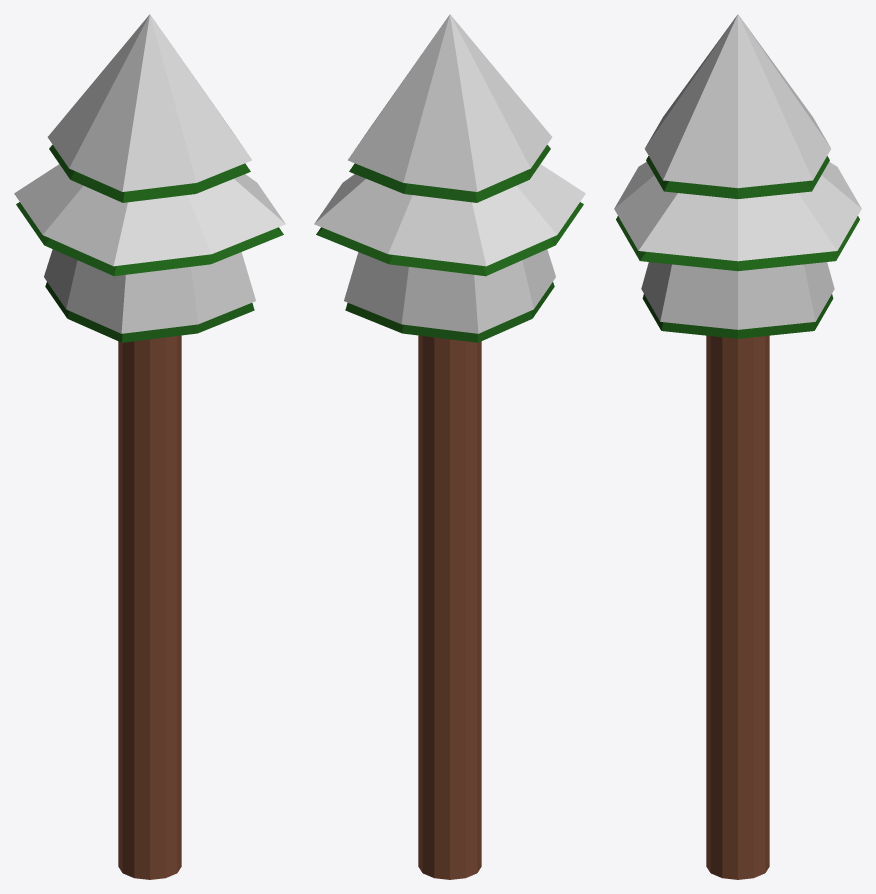
File: Tree_20_winter_mat.fbx
The picture shows the model from 3 angles, left to right: view 1: azimuth 30°, elevation 25°; view 2: azimuth 150°, elevation 25°; view 3: azimuth 270°, elevation 25°; orthographic projection.
Parts seen in each view (by area): view 1: Tree_20_winter_mat; view 2: Tree_20_winter_mat; view 3: Tree_20_winter_mat.
Boxes of the visible parts, x1,y1,x2,y2 form: Tree_20_winter_mat: (14,14,285,879); Tree_20_winter_mat: (314,14,585,879); Tree_20_winter_mat: (614,14,861,879).
Size of the model in its own units: 347 by 1317 by 347.
